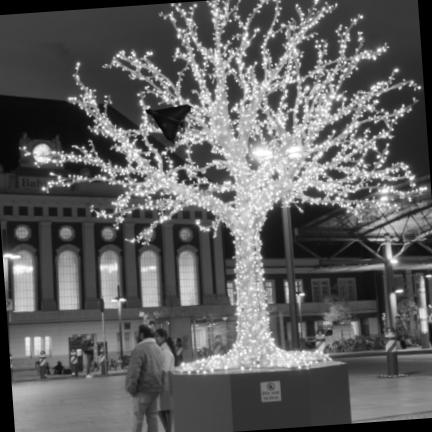Shahed: (146, 104, 191, 141)
